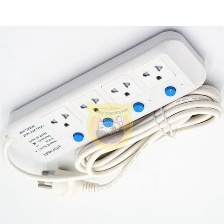three_eye_plug: (3, 26, 211, 167)
